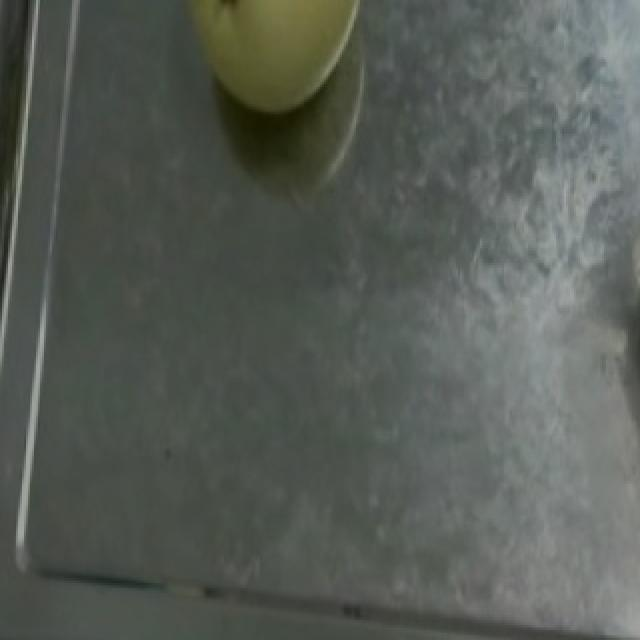Fruit: (164, 0, 378, 124)
